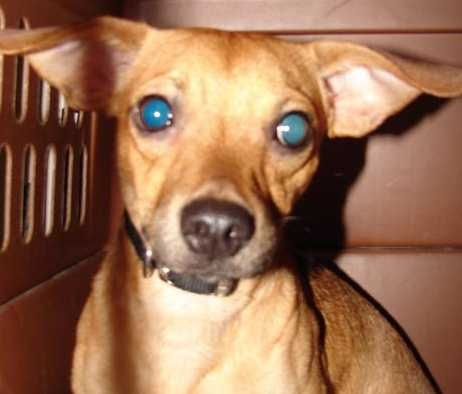dog: (27, 21, 462, 394)
